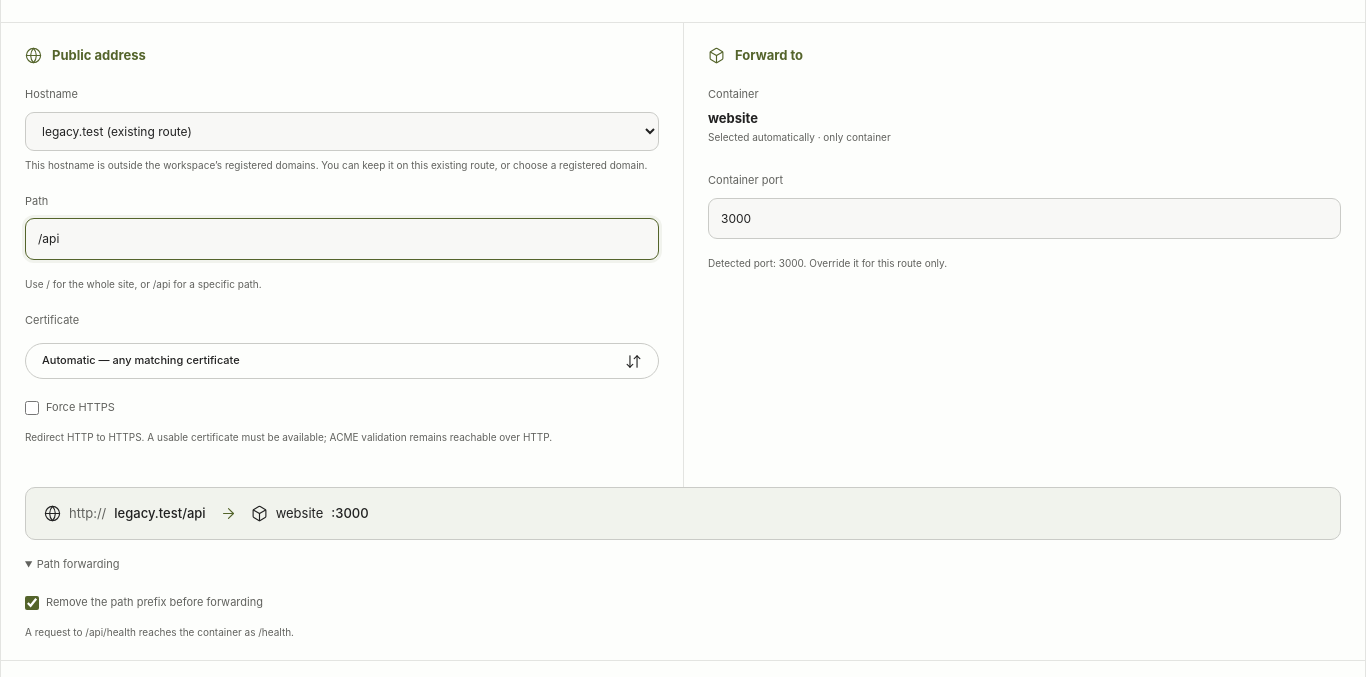
Test: domain routing editor › lets contributors retain an existing external host without a misleading preview
Expected: the dropdown named "Domain" shows "legacy.test (existing route)", left=25, top=112, right=659, bottom=151
Expected: the text "outside the workspace’s registered domains" is shown, left=25, top=159, right=647, bottom=171
Replace the text in the field labelled "Path" with "/status". click: (342, 239)
box: left=25, top=218, right=659, bottom=260
(page scrolled)
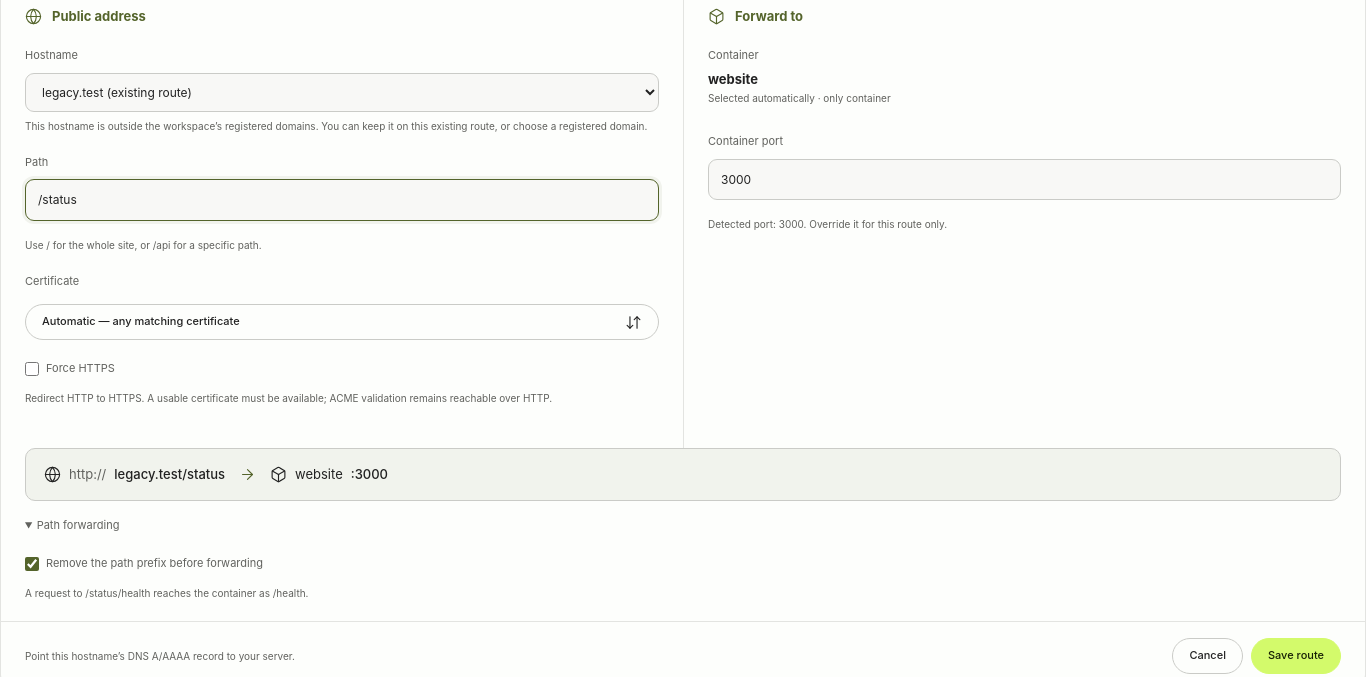
Now the text "legacy.test/status" is shown, box left=114, top=464, right=225, bottom=485
Click the button "Save route". click: (1296, 656)
box: left=1251, top=638, right=1341, bottom=674
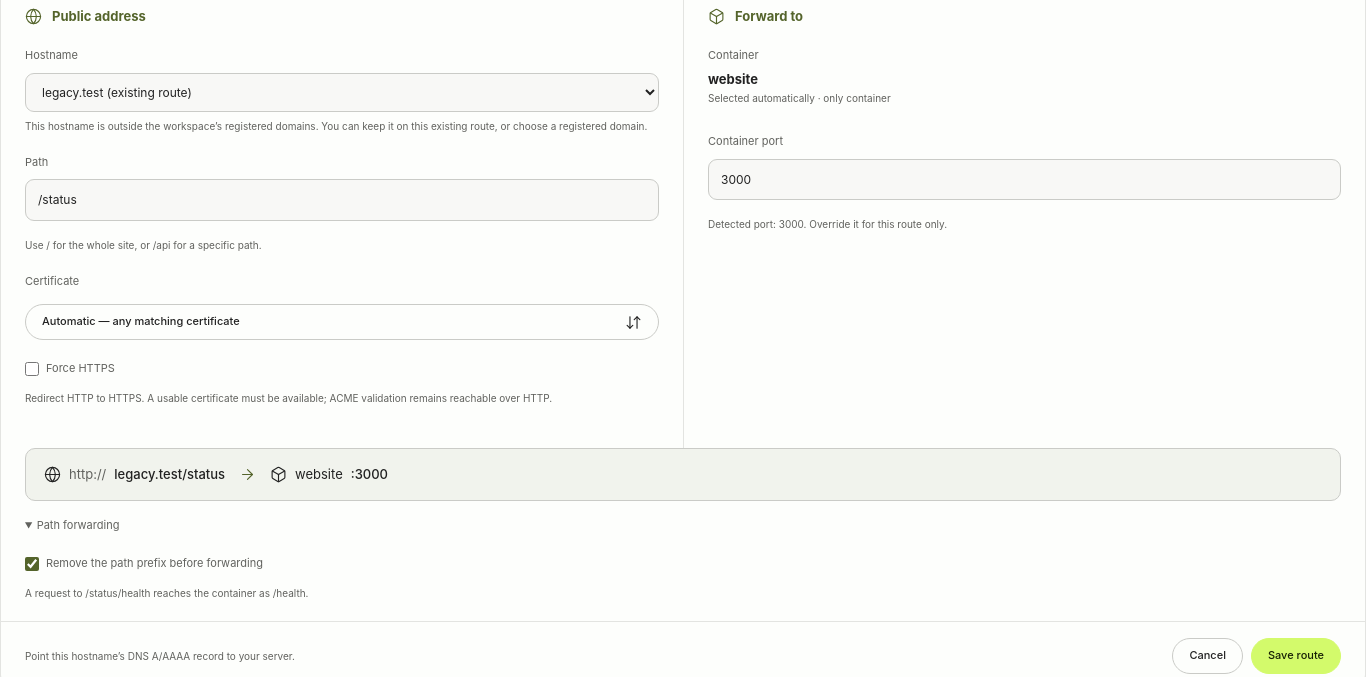
Select "example.com" in the dropdown named "Domain". click: (342, 92)
box: left=25, top=73, right=659, bottom=112
(page scrolled)
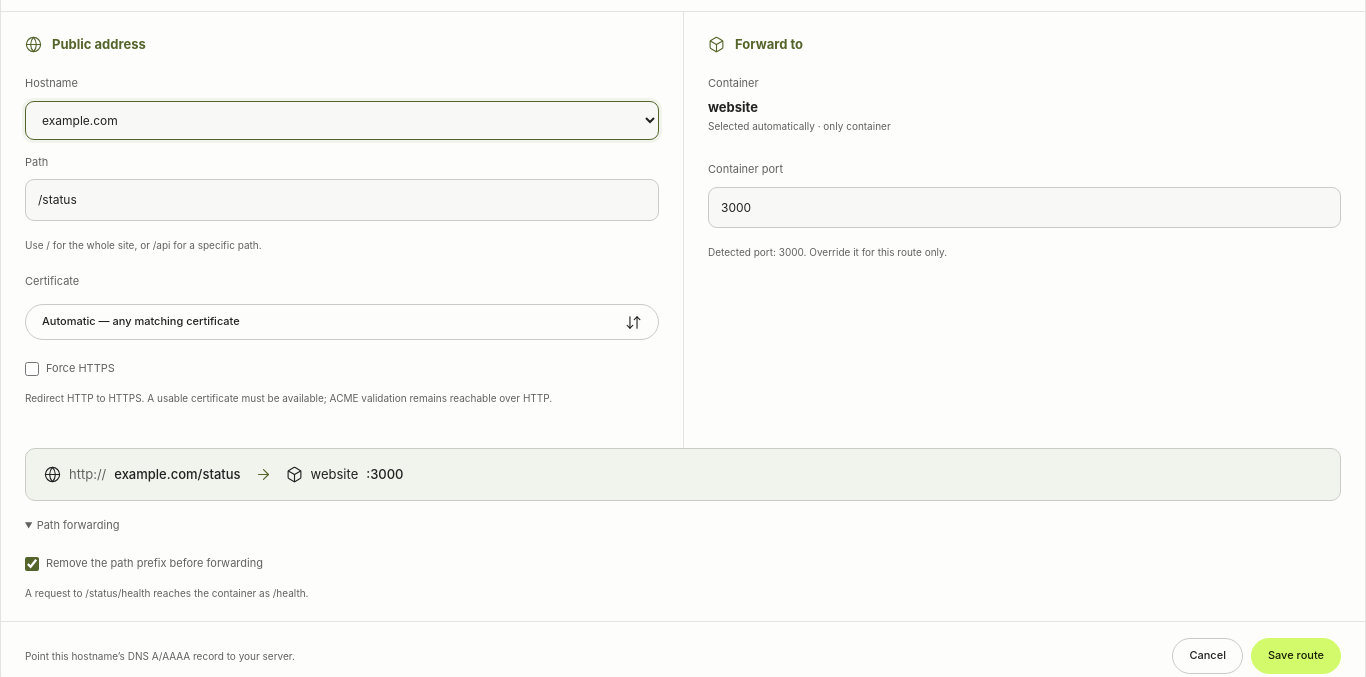
Now the text "outside the workspace’s registered domains" is gone
